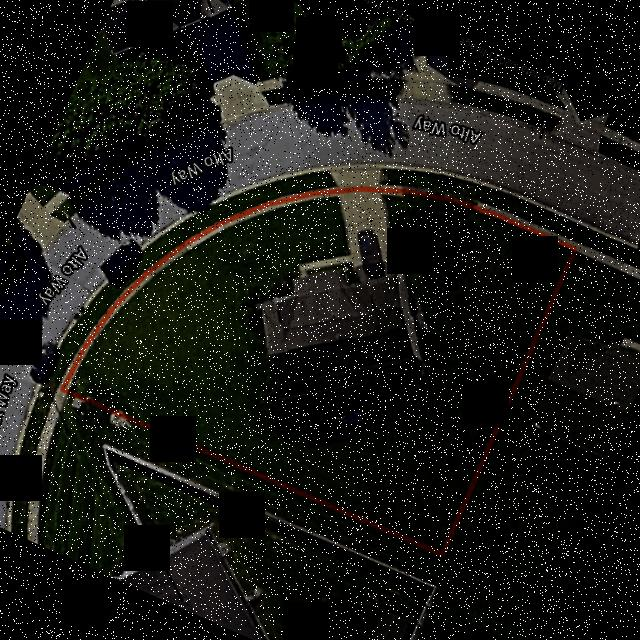Driveway: (300, 192, 392, 276)
Extra Driveway: (330, 168, 382, 186)
Extra Lawn: (45, 171, 333, 382), (377, 168, 581, 241)
House: (261, 261, 420, 401)
